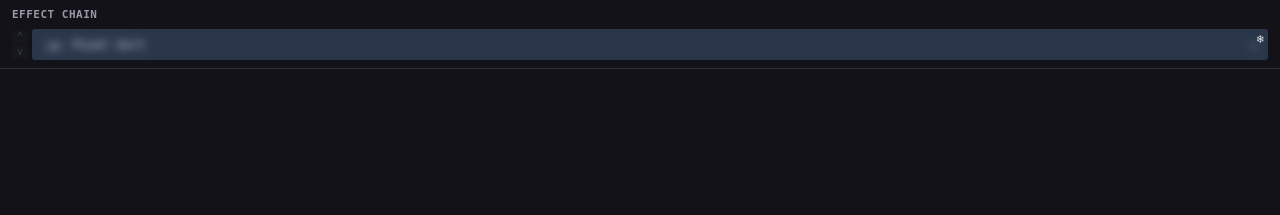
EffectRack — right-click menu (post-refactor) › shows Unfreeze + Flatten only when the effect is frozen
This screenshot has width=1280, height=215.
Right-click the element with class "effect-rack__item".
right_click(640, 44)  # box [12,29,1268,60]
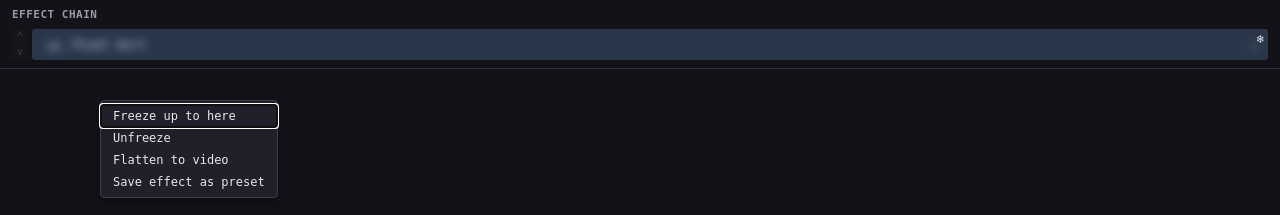
Check: the menu item "Freeze up to here" is shown, box [101,105,277,127]
Check: the menu item "Unfreeze" is shown, box [101,127,277,149]
Check: the menu item "Flatten to video" is shown, box [101,149,277,171]
